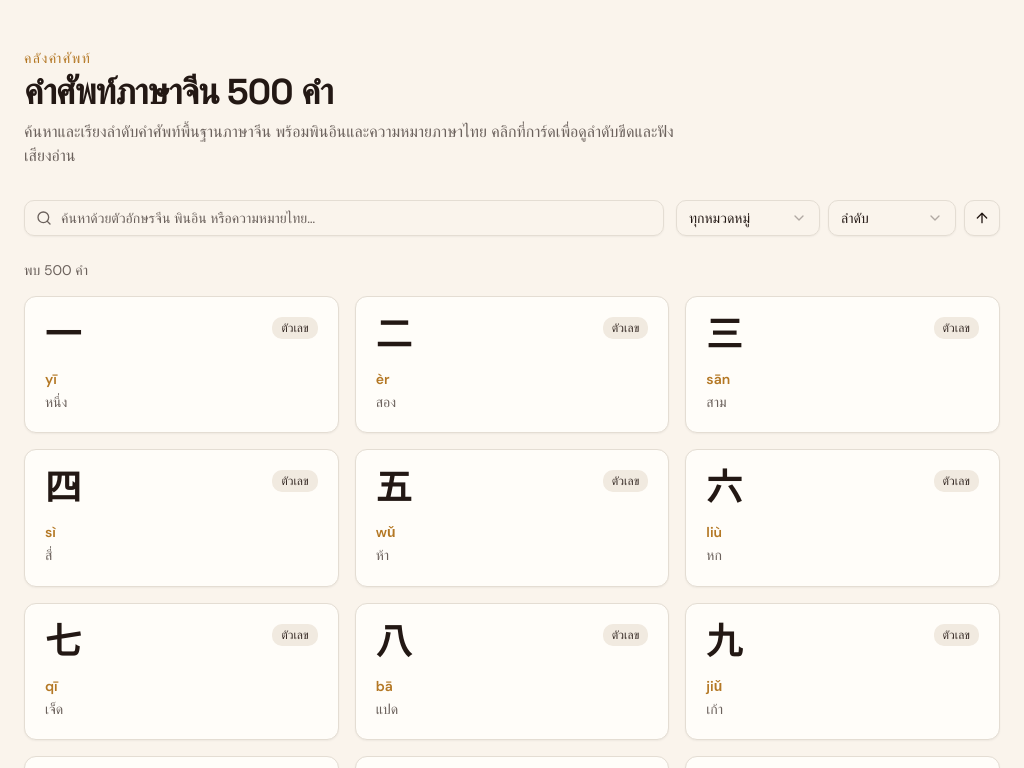
Test case: VocabularyListPage › filters the list when searching by pinyin
The width and height of the screenshot is (1024, 768).
Type "bǎi" into the field named "ค้นหาคำศัพท์".
click(344, 218); type("bǎi")  # box [24,200,664,236]
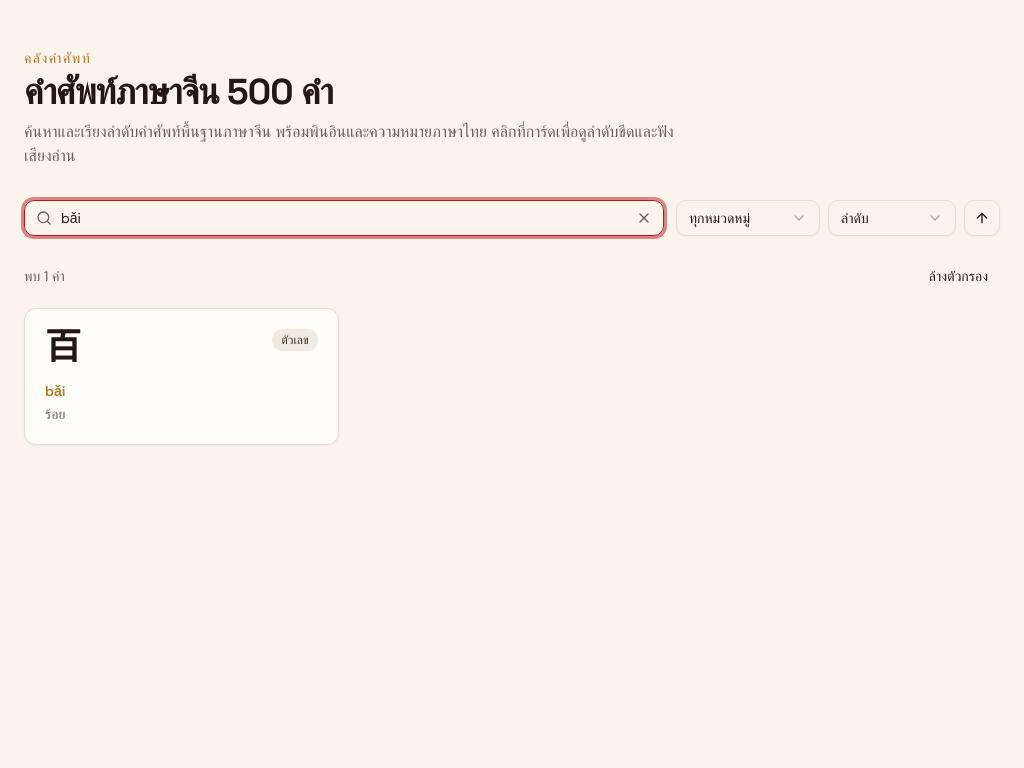
Expected: the text "ร้อย" is shown, [45,405,65,423]
Result: the text with test id "vocab.result_count" reads "พบ 1 คำ" at [24,266,65,286]
